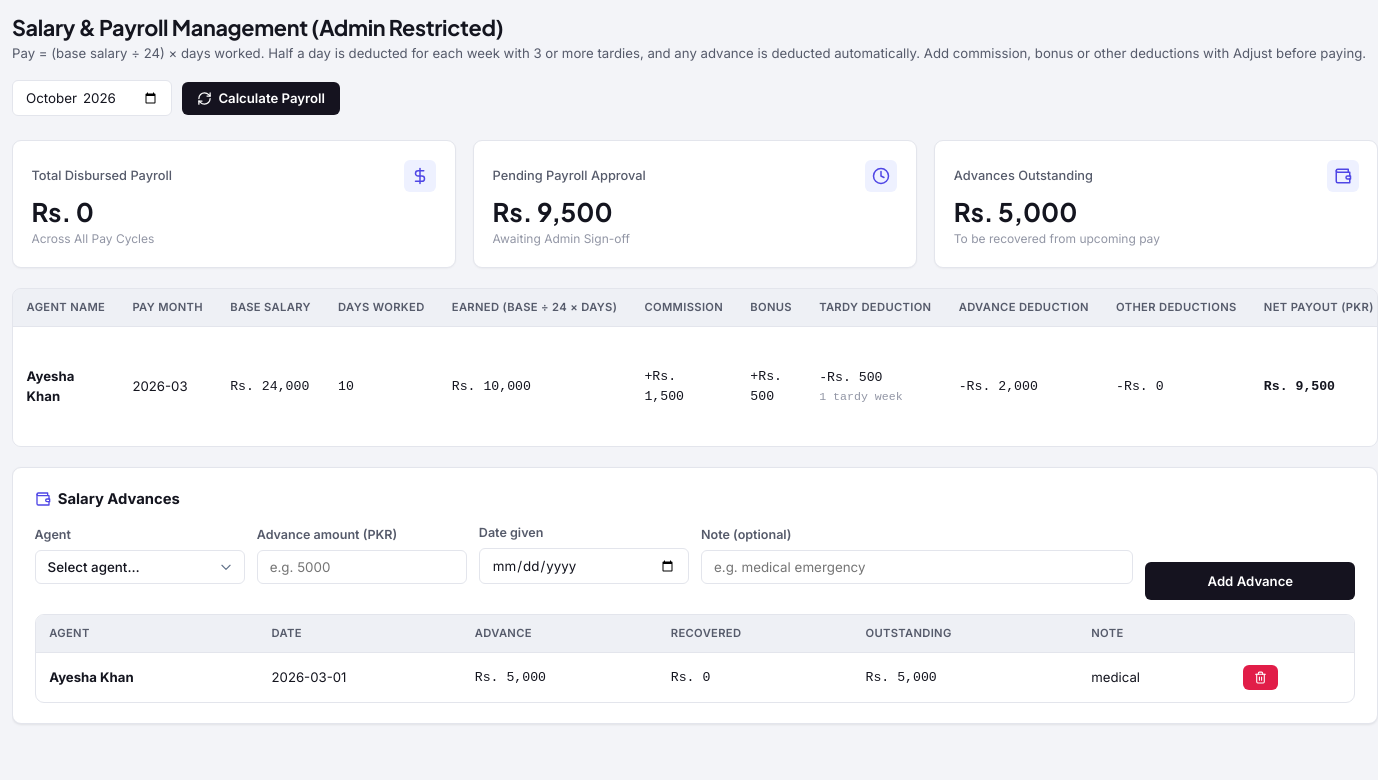
Test: AdminPayroll › will not submit an advance without an agent or with a non-positive amount
The width and height of the screenshot is (1378, 780).
Type "3000" into the number field labelled "Advance amount (PKR)" at (362, 567), box [257, 550, 467, 584]
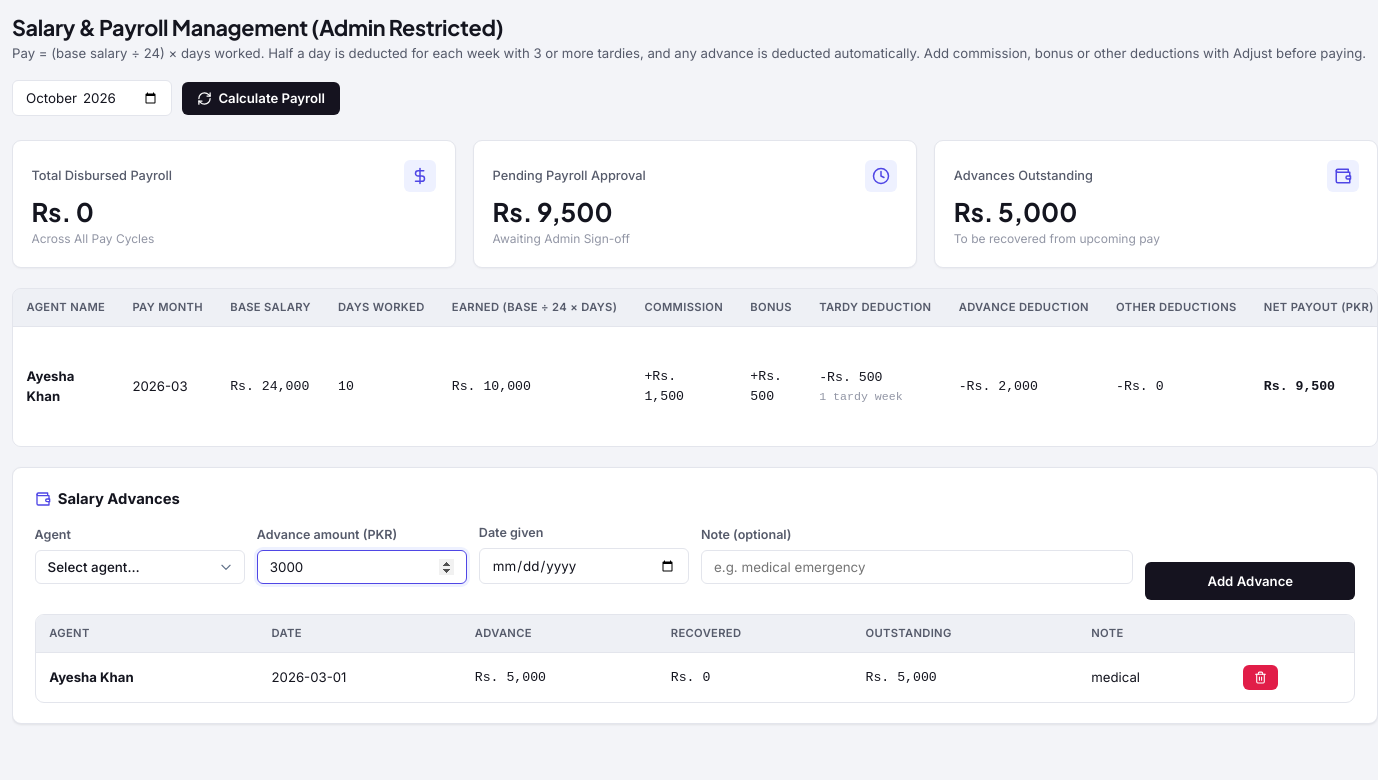
Click the button "Add Advance" at (1250, 581), box [1145, 562, 1355, 600]
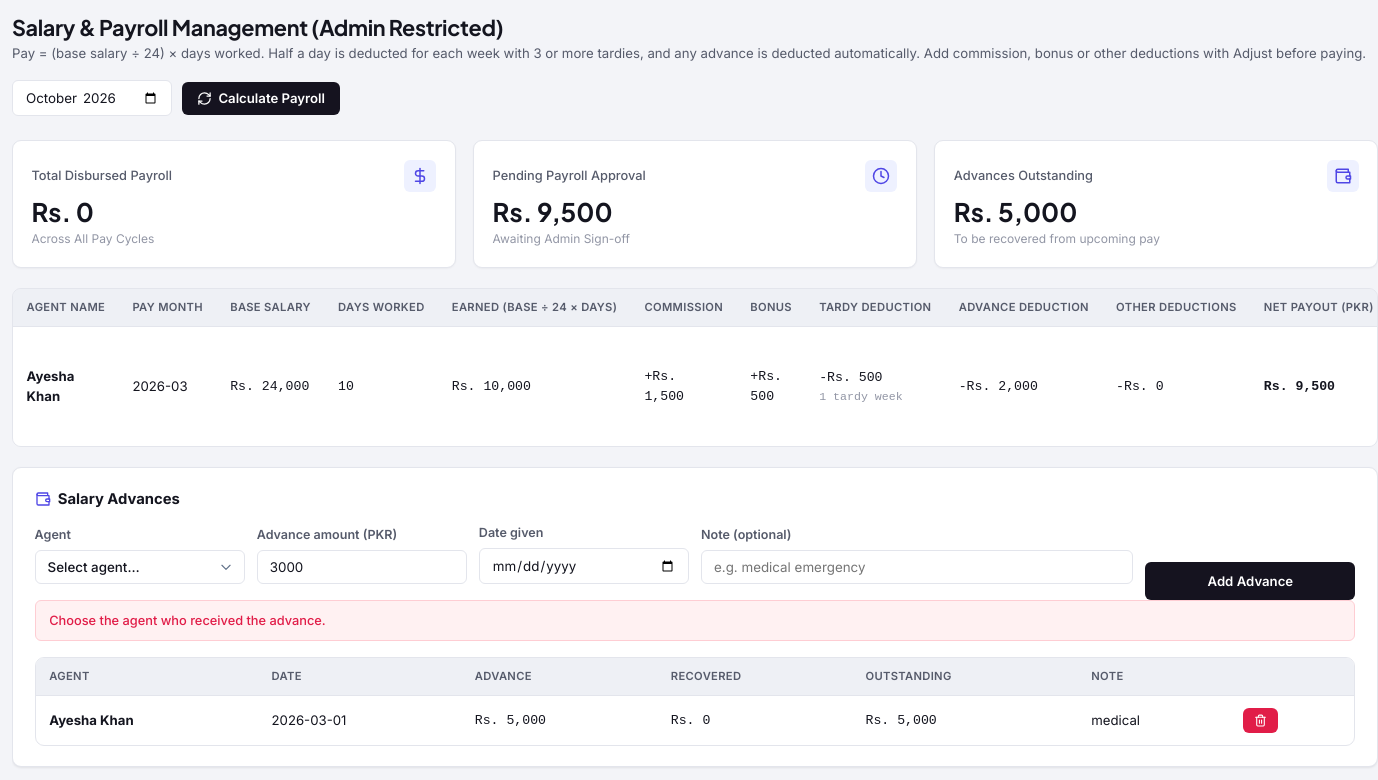
Now the text "Choose the agent who received the advance." is shown, box [35, 600, 1355, 641]
